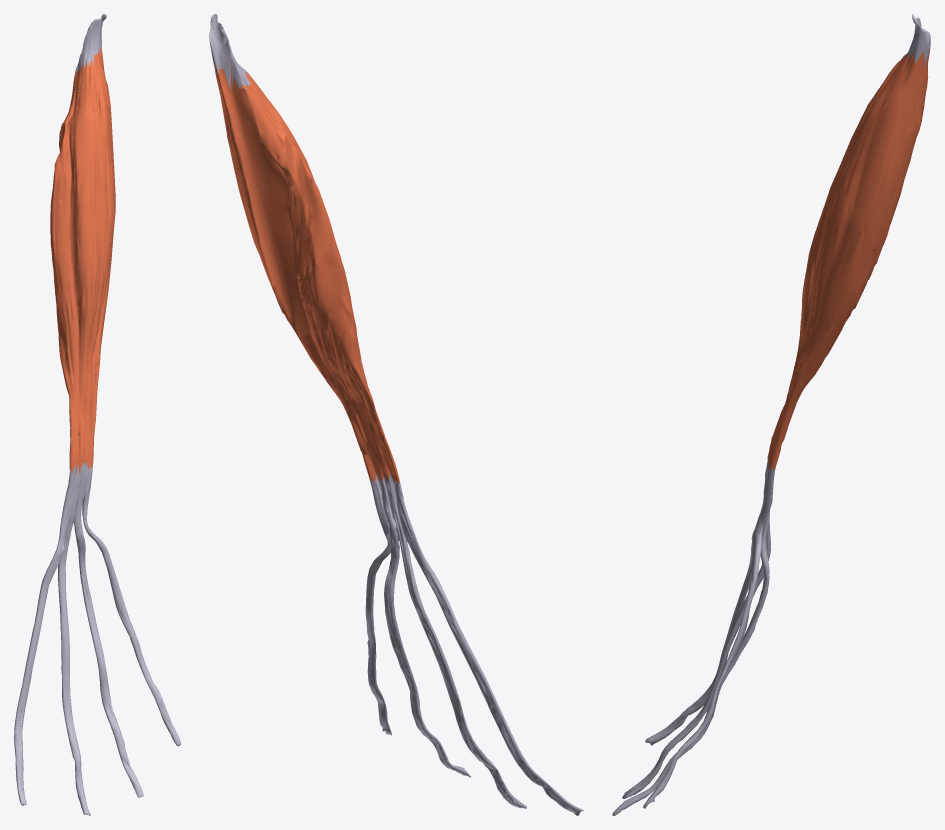
The model's file is Flexor_digitorum_profundus.r_Generated_Mesh_From_X3D.500.glb.
3 views of the same model, side by side, from view 1: azimuth 30°, elevation 25°; view 2: azimuth 150°, elevation 25°; view 3: azimuth 270°, elevation 25° (orthographic). The views are drawn at different scales.
Visible parts, largest first — view 1: Flexor_digitorum_profundus.r_Generated_Mesh_From_X3D.500; view 2: Flexor_digitorum_profundus.r_Generated_Mesh_From_X3D.500; view 3: Flexor_digitorum_profundus.r_Generated_Mesh_From_X3D.500.
Part boxes in pixels (x1,y1,x2,y2): Flexor_digitorum_profundus.r_Generated_Mesh_From_X3D.500: (14, 14, 180, 815); Flexor_digitorum_profundus.r_Generated_Mesh_From_X3D.500: (209, 14, 583, 815); Flexor_digitorum_profundus.r_Generated_Mesh_From_X3D.500: (612, 14, 930, 815).
Size of the model in its own units: 0.1065 by 0.3651 by 0.1221.
